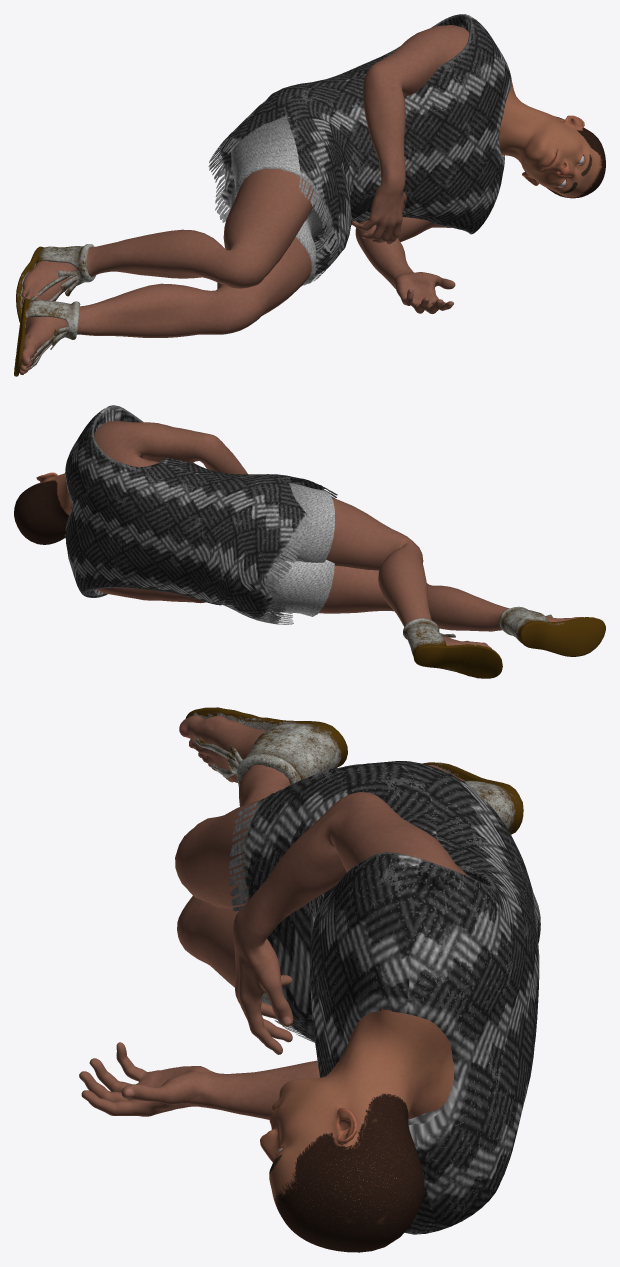
File: Dead NPC.fbx
3 renders of one model, top to bottom at view 1: azimuth 30°, elevation 25°; view 2: azimuth 150°, elevation 25°; view 3: azimuth 270°, elevation 25°, orthographic. The views are drawn at different scales.
Parts seen in each view (by area): view 1: Arms1; view 2: Arms1; view 3: Arms1.
Boxes of the visible parts, x1,y1,x2,y2 form: Arms1: (14, 14, 605, 376); Arms1: (14, 405, 605, 678); Arms1: (79, 707, 540, 1252).
Bounding box in the file's own units: 168 × 55.3 × 61.47.
